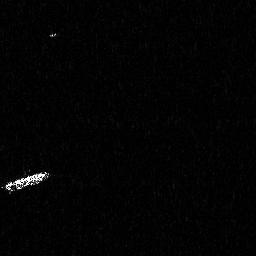ship: (1, 169, 50, 195)
